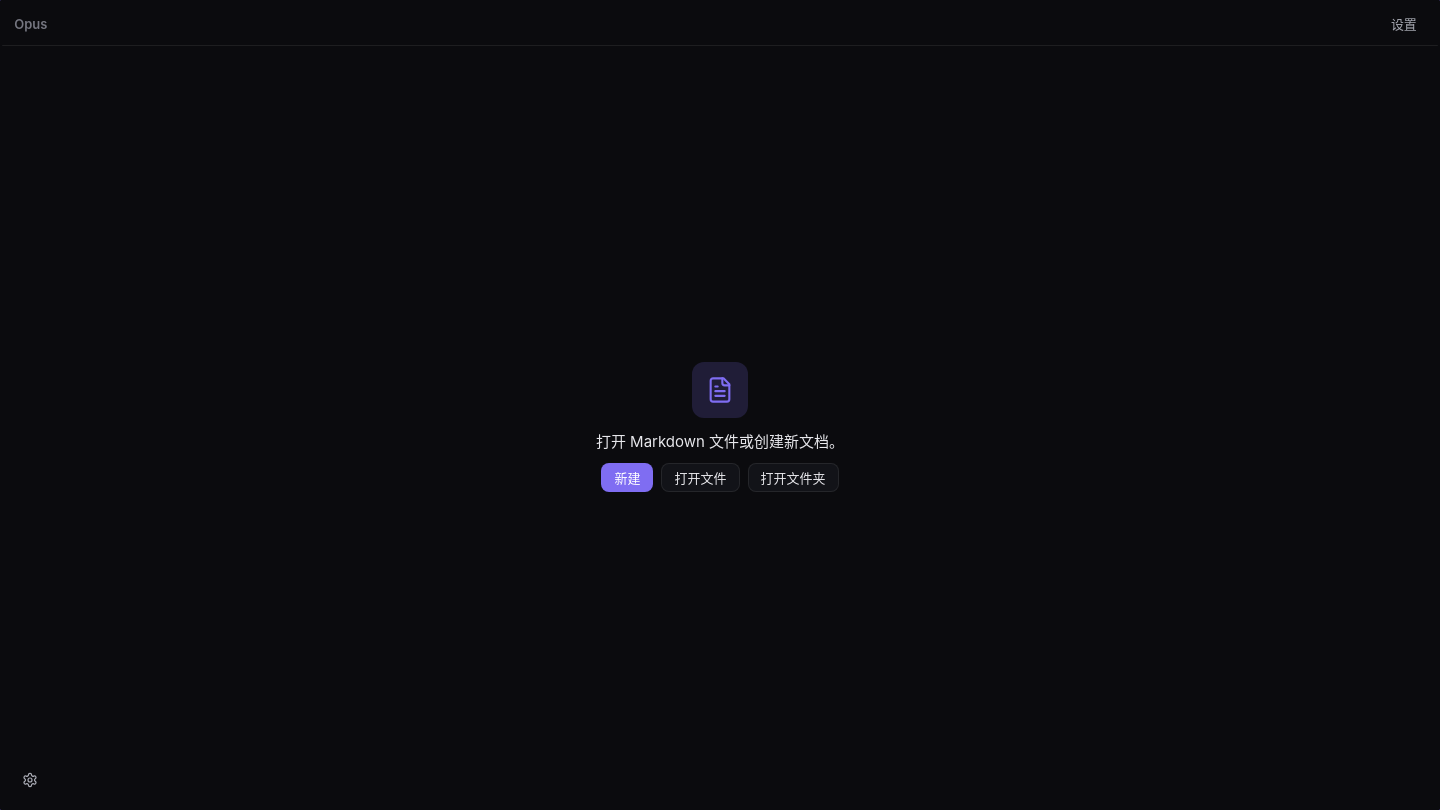
Scenario: accessibility: keyboard-only flows › collapses and expands the sidebar with the keyboard
Click the button "打开文件夹" at (793, 478), box [748, 463, 838, 492]
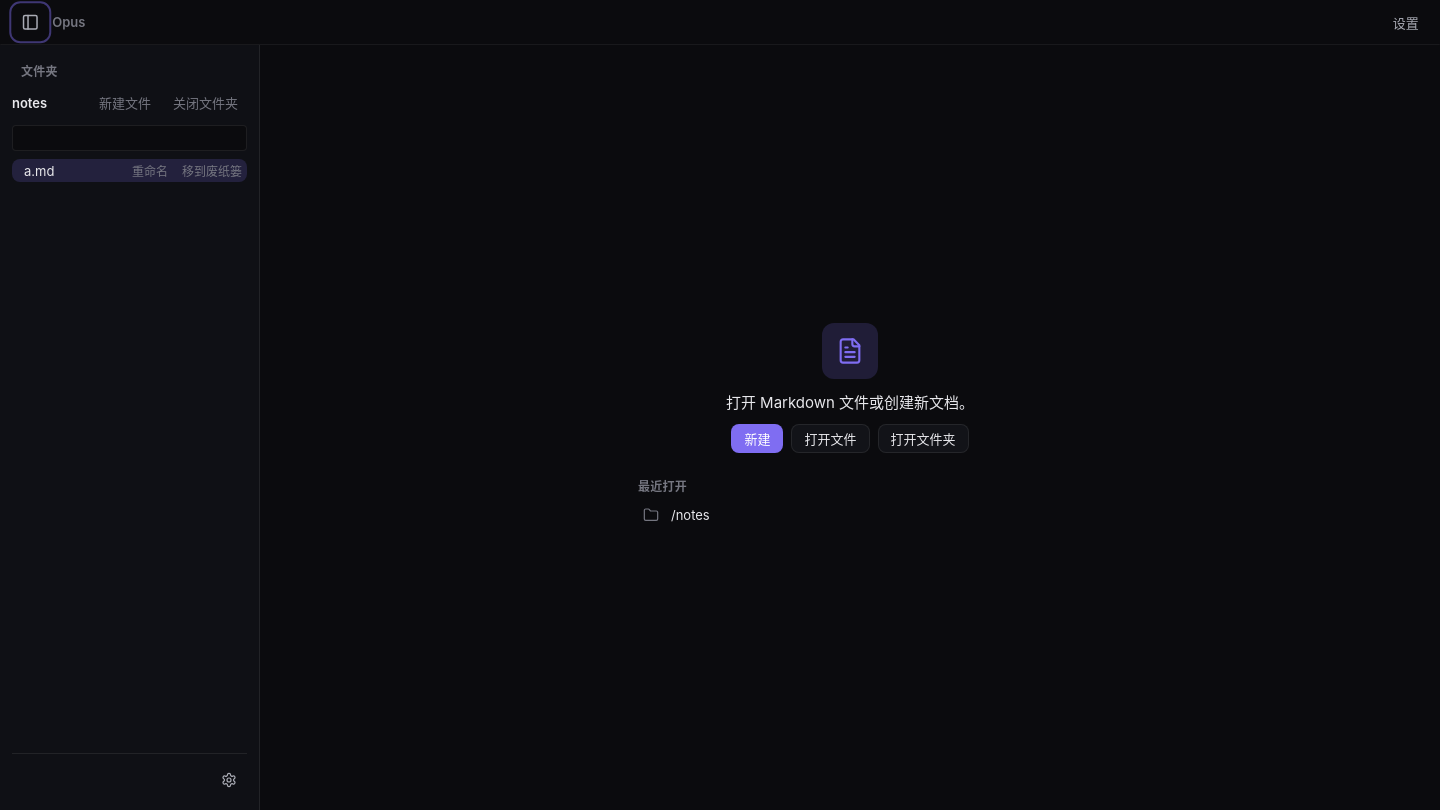
Press Enter in the button named "收起侧栏", box [12, 4, 48, 40]
Click the button named "收起侧栏" at (30, 22), box [12, 4, 48, 40]
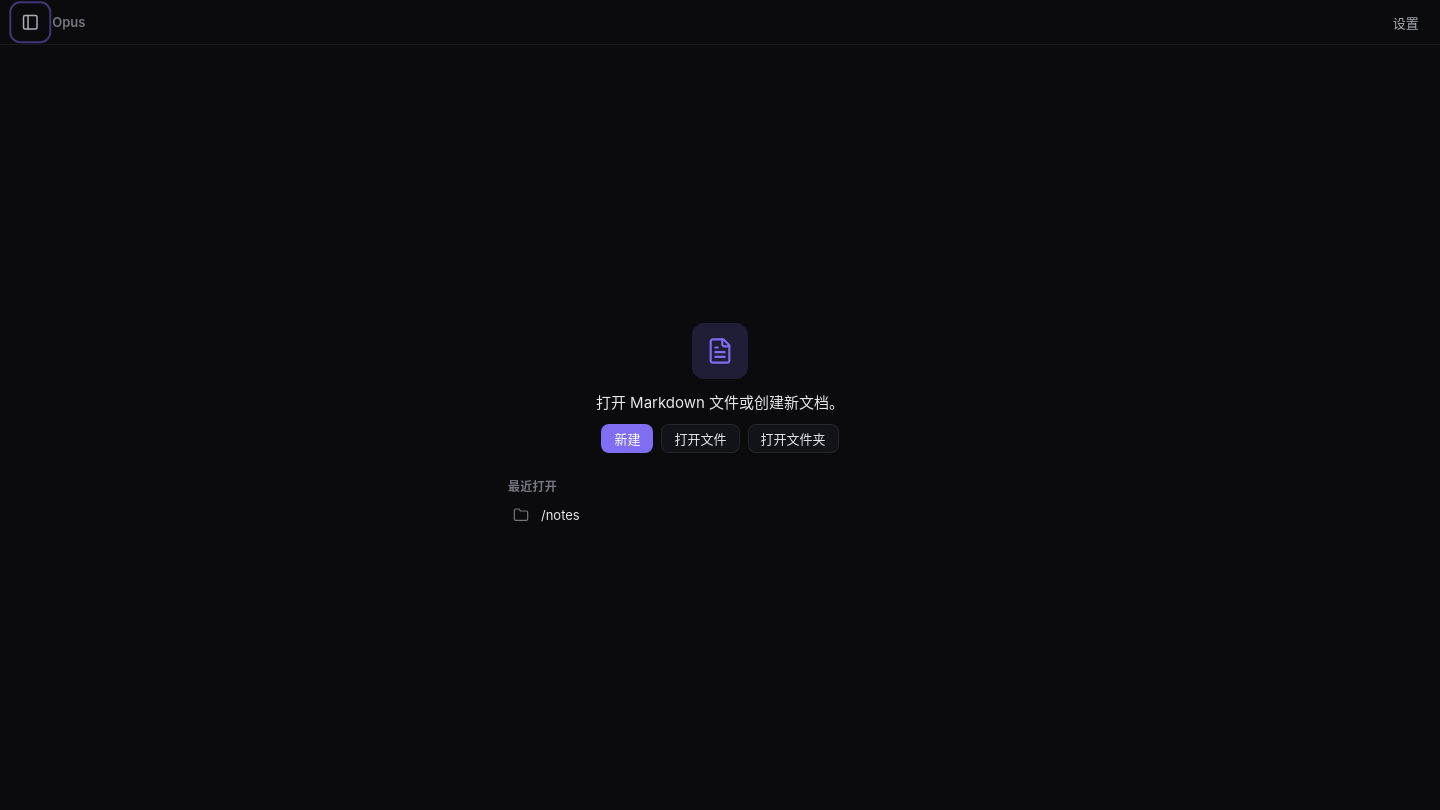
Check: the element "侧栏" is gone
Press Enter in the button named "展开侧栏", box [12, 4, 48, 40]
Click the button named "展开侧栏" at (30, 22), box [12, 4, 48, 40]
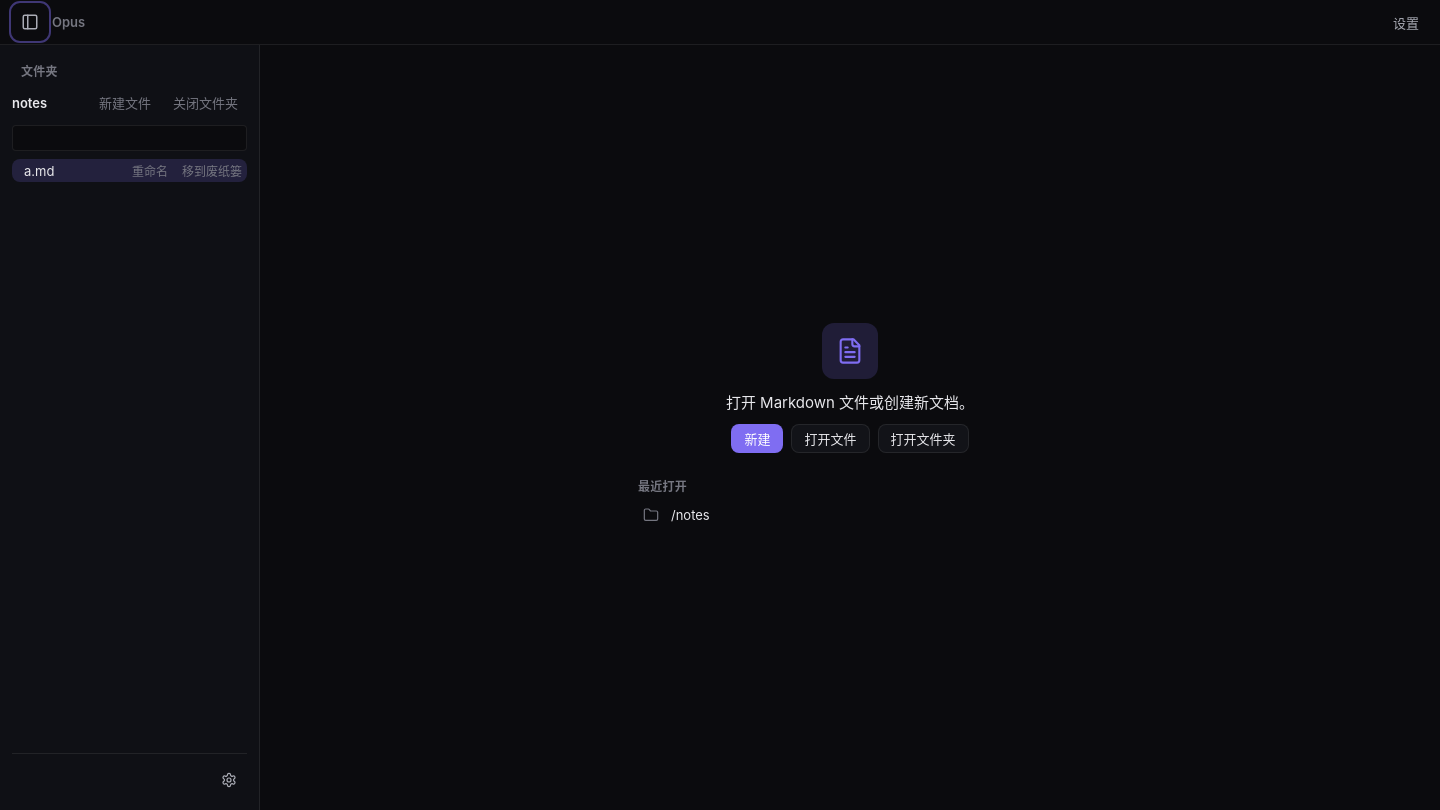
Check: the element named "侧栏" is shown, box [0, 45, 260, 809]
